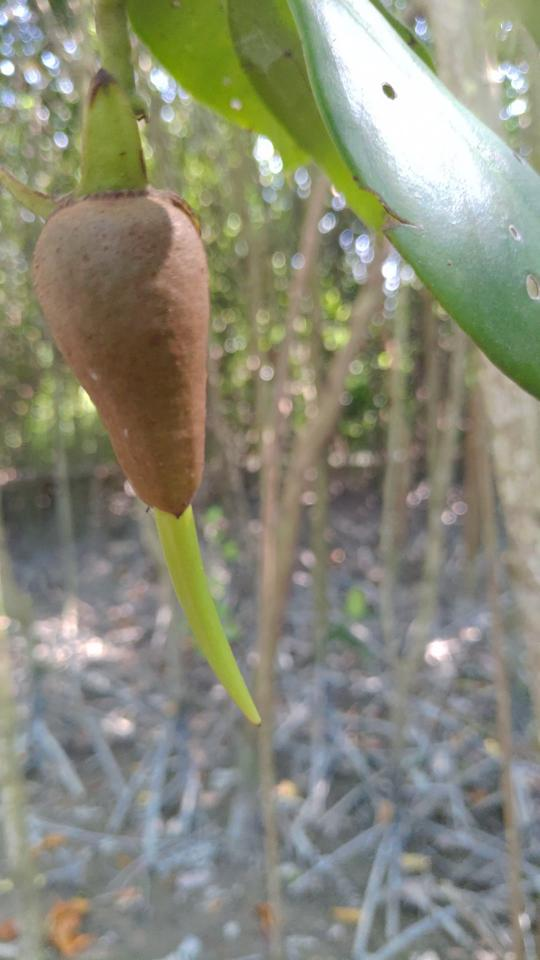mentah: (6, 58, 291, 737)
